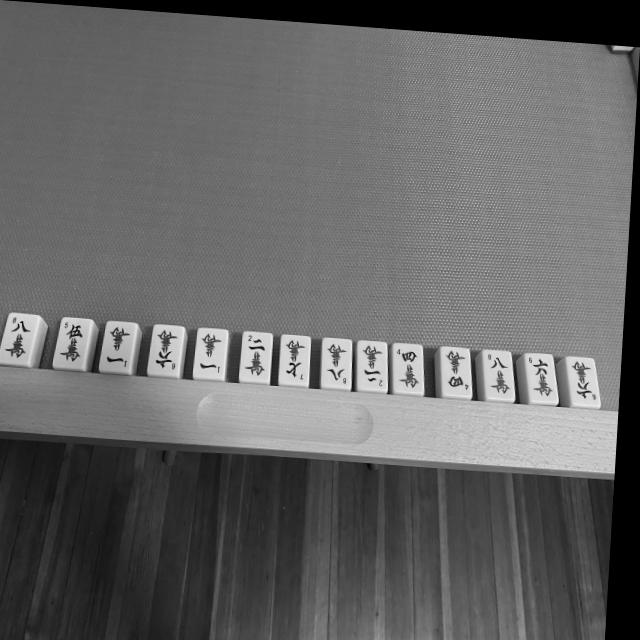1C: (103, 323, 132, 373), (197, 332, 224, 376)
2C: (357, 341, 387, 391), (243, 333, 269, 380)
4C: (394, 343, 423, 393), (442, 350, 470, 393)
5C: (59, 319, 85, 365)
6C: (150, 325, 181, 374), (568, 359, 598, 404), (526, 355, 554, 401)
7C: (280, 337, 309, 383)
8C: (484, 351, 513, 398), (323, 340, 351, 388), (6, 315, 32, 362)
